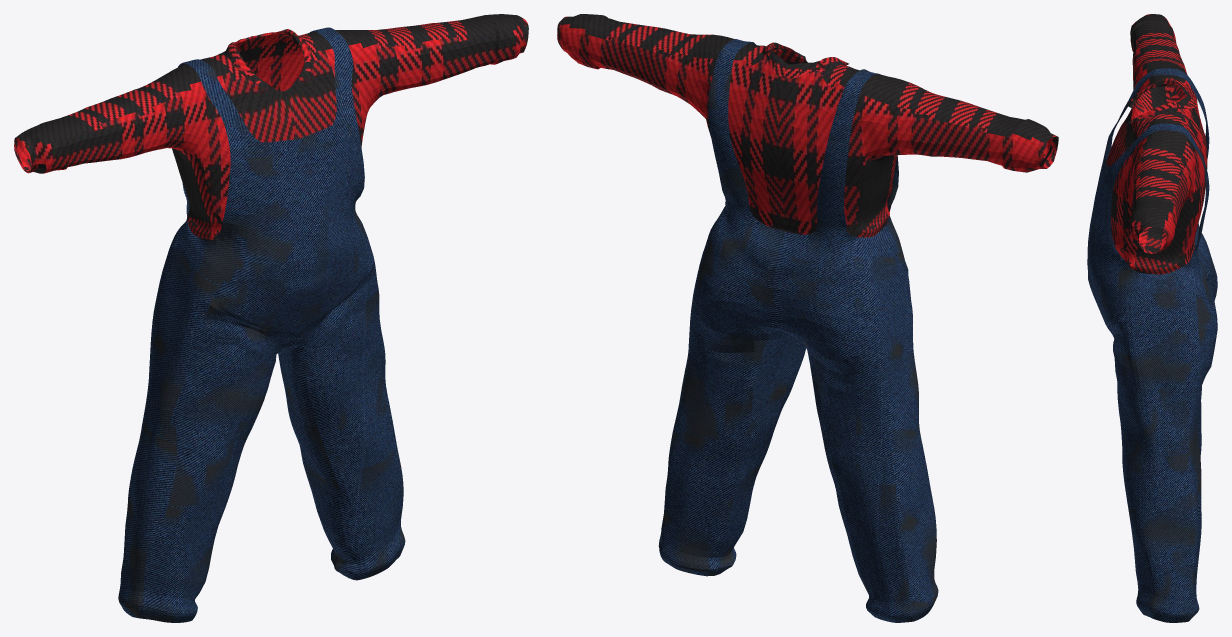
Rendered from Shirt01.fbx.
The picture shows the model from 3 angles, left to right: view 1: azimuth 30°, elevation 25°; view 2: azimuth 150°, elevation 25°; view 3: azimuth 270°, elevation 25°; orthographic projection. The views are drawn at different scales.
Visible parts, largest first — view 1: Touser, Shirt; view 2: Touser, Shirt; view 3: Touser, Shirt.
Part boxes in pixels (box(x1,y1,x2,y2)): Touser: box(118, 27, 405, 622); Shirt: box(14, 14, 528, 241); Touser: box(658, 39, 938, 622); Shirt: box(557, 14, 1058, 237); Touser: box(1087, 68, 1217, 622); Shirt: box(1106, 14, 1207, 274).
Bounding box in the file's own units: 155 × 163 × 39.8.
2 materials, 2 textured.
